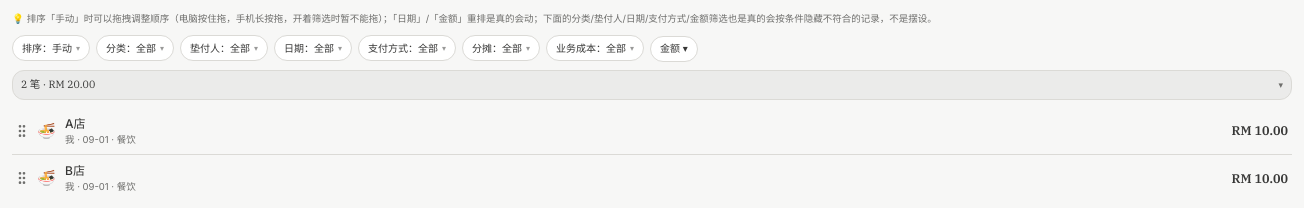
Test case: ExpenseList — 第七十二轮任务④ + 2026-09-26 命名纠正任务：「计分摊/不计分摊」筛选（判断依据改成 isOnlyMeSplit） › 切到「计分摊」：只剩 isOnlyMeSplit=false 的记录（真的分给了别人）
The image size is (1304, 208).
Step 1. Click the button with aria-label "按是否计分摊筛选" → x=501, y=48, box [462, 35, 540, 61]
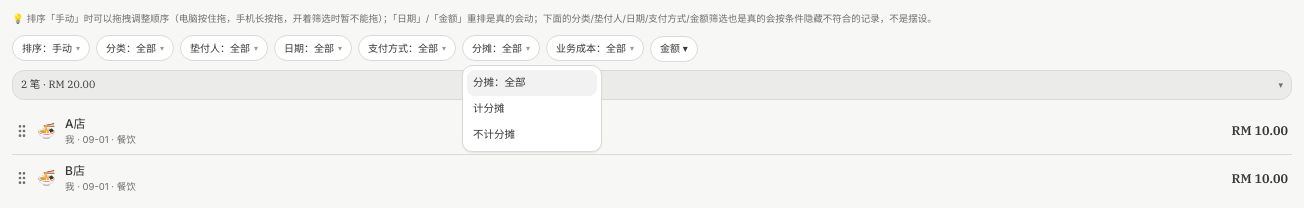
Step 2. Press the mouse on the option "计分摊" → x=489, y=108, box [473, 102, 505, 115]
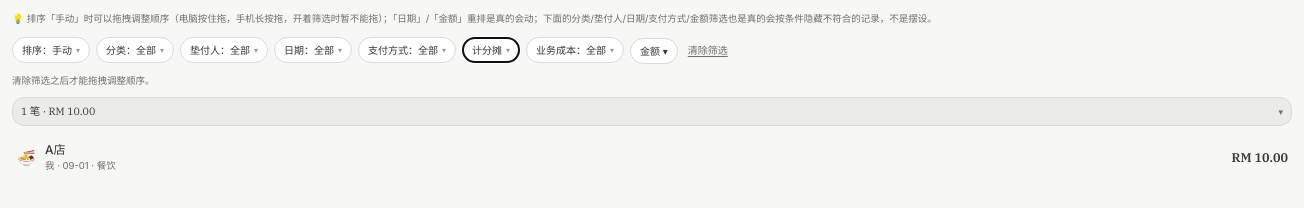
Expected: the text "A店" is shown, [45, 142, 66, 157]
Result: the button "B店" is gone
